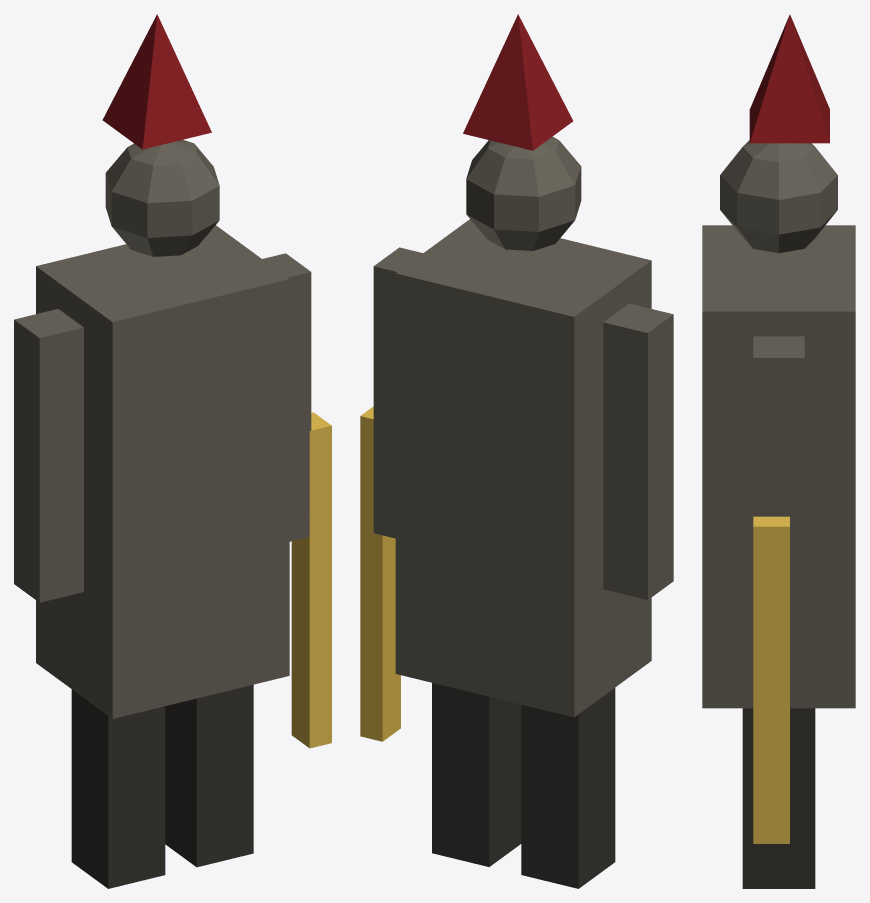
Rendered from knight.obj.
3 views of the same model, side by side, from view 1: azimuth 30°, elevation 25°; view 2: azimuth 150°, elevation 25°; view 3: azimuth 270°, elevation 25° (orthographic).
Visible parts, largest first — view 1: knight_torso, knight_arm_l, knight_leg_l, knight_leg_r, knight_sword, knight_head, knight_plume, knight_arm_r; view 2: knight_torso, knight_arm_l, knight_leg_l, knight_leg_r, knight_head, knight_sword, knight_plume, knight_arm_r; view 3: knight_torso, knight_sword, knight_arm_r, knight_head, knight_leg_r, knight_plume.
Part boxes in pixels (<box>): knight_torso: <box>36,225,289,718</box>; knight_arm_l: <box>14,309,83,602</box>; knight_leg_l: <box>71,689,165,888</box>; knight_leg_r: <box>165,684,253,867</box>; knight_sword: <box>291,412,331,748</box>; knight_head: <box>105,140,219,256</box>; knight_plume: <box>102,14,211,149</box>; knight_arm_r: <box>262,253,311,541</box>; knight_torso: <box>395,219,651,717</box>; knight_arm_l: <box>603,303,673,599</box>; knight_leg_l: <box>521,688,615,888</box>; knight_leg_r: <box>432,683,521,866</box>; knight_head: <box>466,136,581,250</box>; knight_sword: <box>360,406,400,741</box>; knight_plume: <box>463,14,572,150</box>; knight_arm_r: <box>373,247,422,538</box>; knight_torso: <box>702,225,855,708</box>; knight_sword: <box>753,516,789,843</box>; knight_arm_r: <box>753,336,804,622</box>; knight_head: <box>720,140,837,253</box>; knight_leg_r: <box>742,708,815,888</box>; knight_plume: <box>749,14,829,143</box>.
Bounding box in the file's own units: 0.925 × 2.54 × 0.42.
